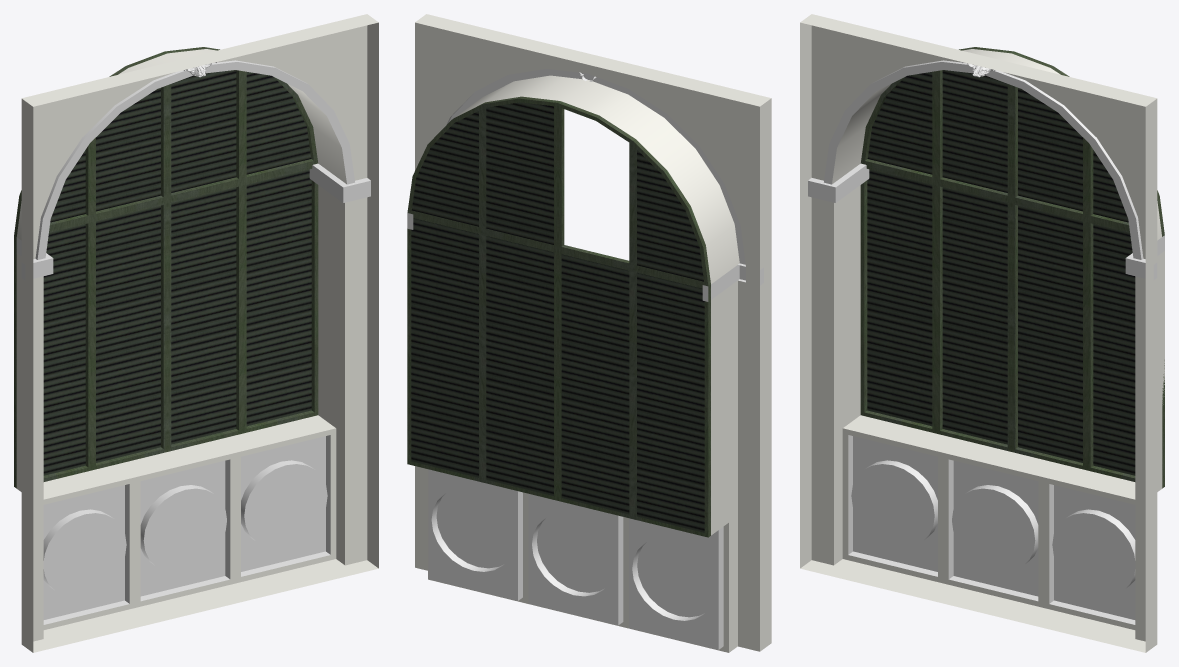
Rendered from window_floor2_front4.glb.
3 views of the same model, side by side, from view 1: azimuth 30°, elevation 25°; view 2: azimuth 150°, elevation 25°; view 3: azimuth 330°, elevation 25° (orthographic).
Visible parts, largest first — view 1: 3DGeom-1, 3DGeom-10.001, 3DGeom-2, 3DGeom-10, 3DGeom-11.001, 3DGeom-11; view 2: 3DGeom-1, 3DGeom-10.001, 3DGeom-10, 3DGeom-2, 3DGeom-11, 3DGeom-11.001; view 3: 3DGeom-1, 3DGeom-10, 3DGeom-2, 3DGeom-10.001, 3DGeom-11, 3DGeom-11.001.
Part boxes in pixels (x1,y1,x2,y2): 3DGeom-1: (16,14,378,652); 3DGeom-10.001: (171,70,311,444); 3DGeom-2: (16,60,370,624); 3DGeom-10: (43,88,160,475); 3DGeom-11.001: (165,47,318,451); 3DGeom-11: (14,51,167,488); 3DGeom-1: (415,14,771,652); 3DGeom-10.001: (411,102,553,495); 3DGeom-10: (561,150,704,532); 3DGeom-2: (407,69,763,649); 3DGeom-11: (558,101,710,537); 3DGeom-11.001: (407,96,559,500); 3DGeom-1: (800,14,1164,652); 3DGeom-10: (867,70,1007,444); 3DGeom-2: (808,60,1164,624); 3DGeom-10.001: (1018,88,1135,475); 3DGeom-11: (860,47,1013,451); 3DGeom-11.001: (1011,51,1164,488).
Bounding box in the file's own units: 2.16 × 3.26 × 0.4453.
4 materials, 2 textured.
